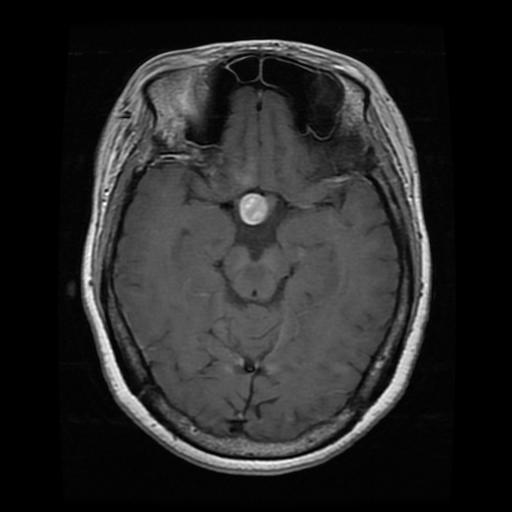Pituirity_tumour: (237, 189, 271, 225)
